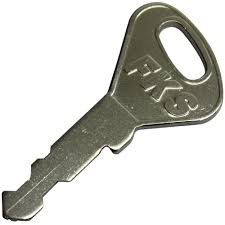kicharina: (3, 1, 219, 210)
